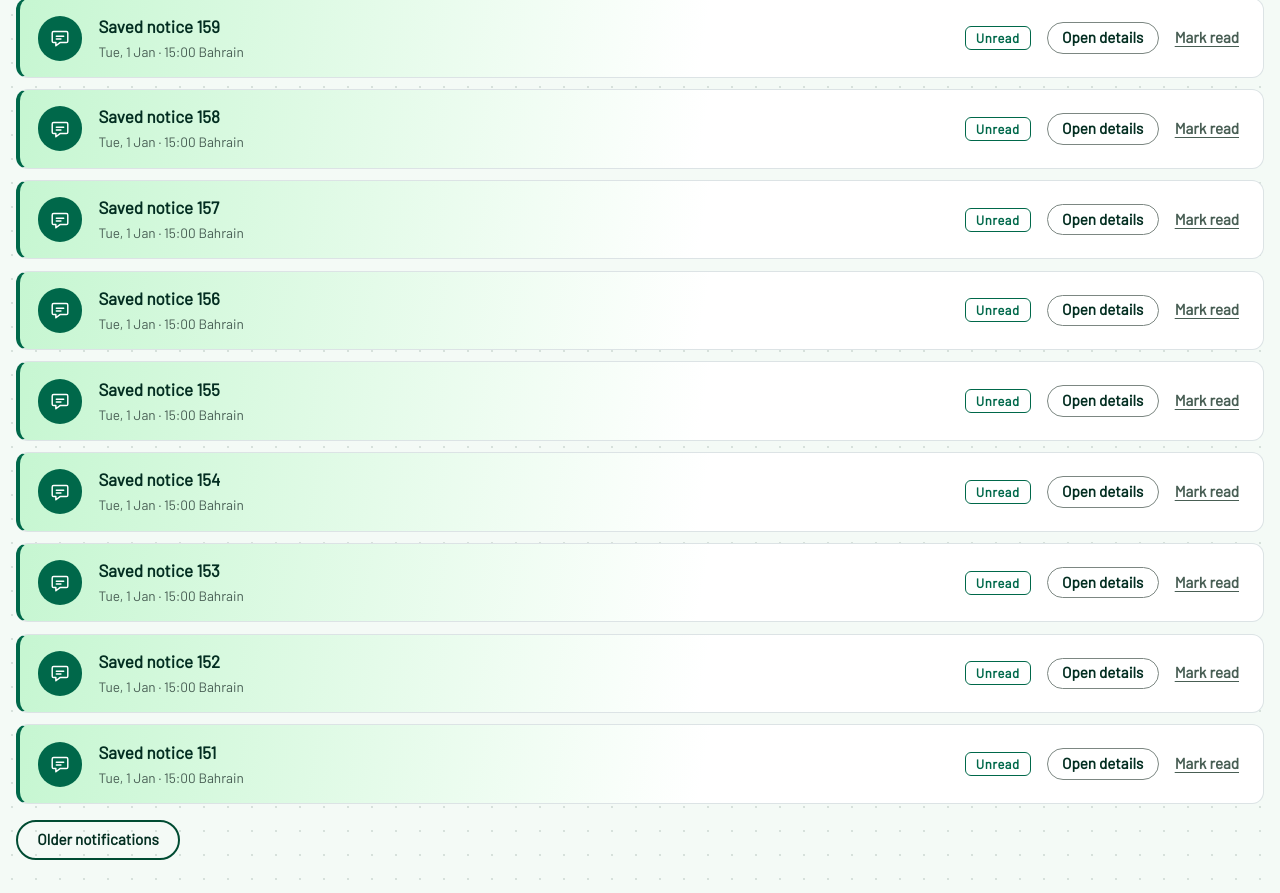
Test: saved notification pagination and mutation failures › moves through before-ID history and returns to the latest page
(page scrolled)
Click the button "Older notifications" at (98, 840), box x1=16 y1=820 x2=180 y2=860
(page scrolled)
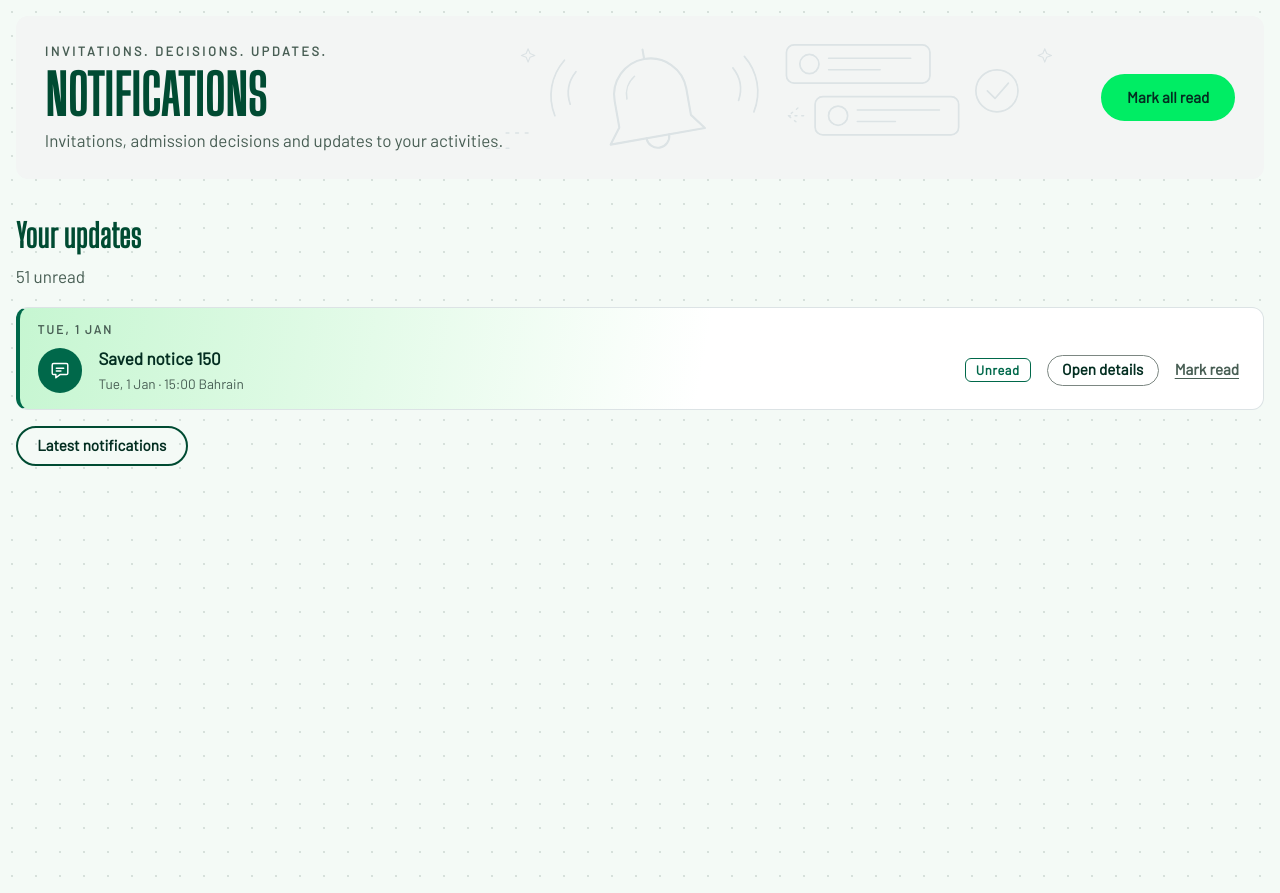
Expected: the text "Saved notice 150" is shown, x1=98 y1=348 x2=221 y2=368
Click the button "Latest notifications" at (102, 446), box x1=16 y1=426 x2=188 y2=466
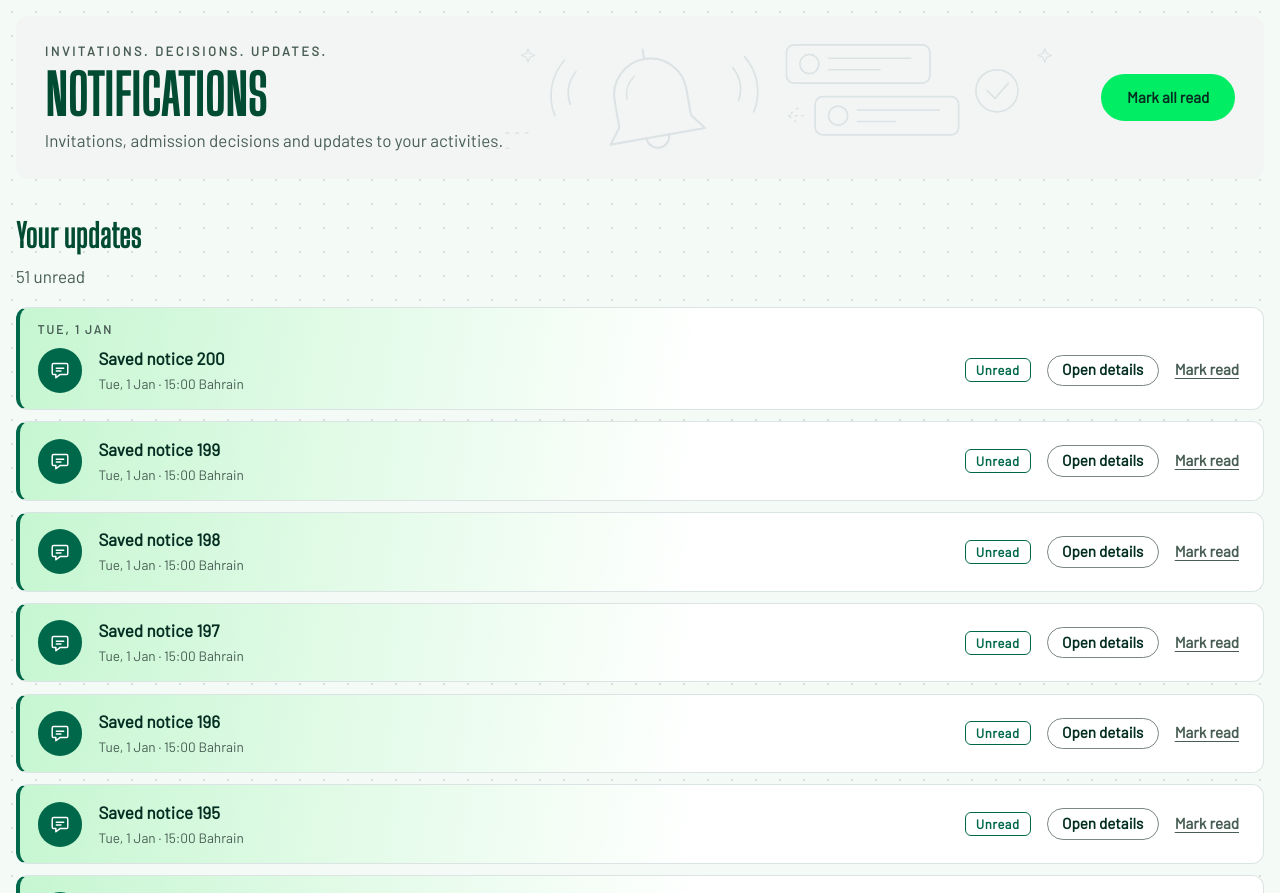
Expected: the text "Saved notice 200" is shown, x1=98 y1=348 x2=225 y2=368
